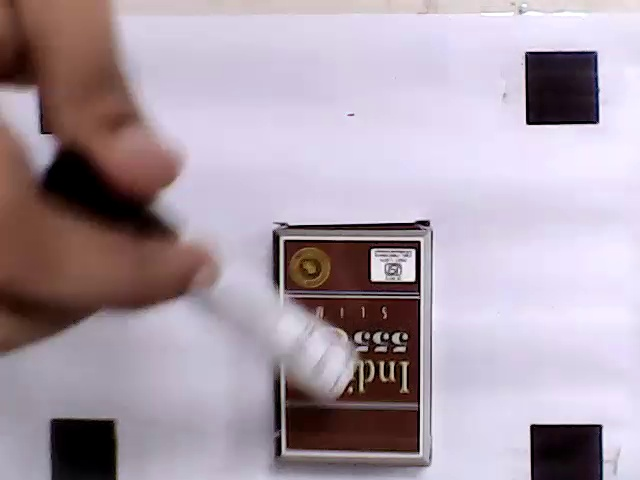BEX: (281, 237, 422, 455)
